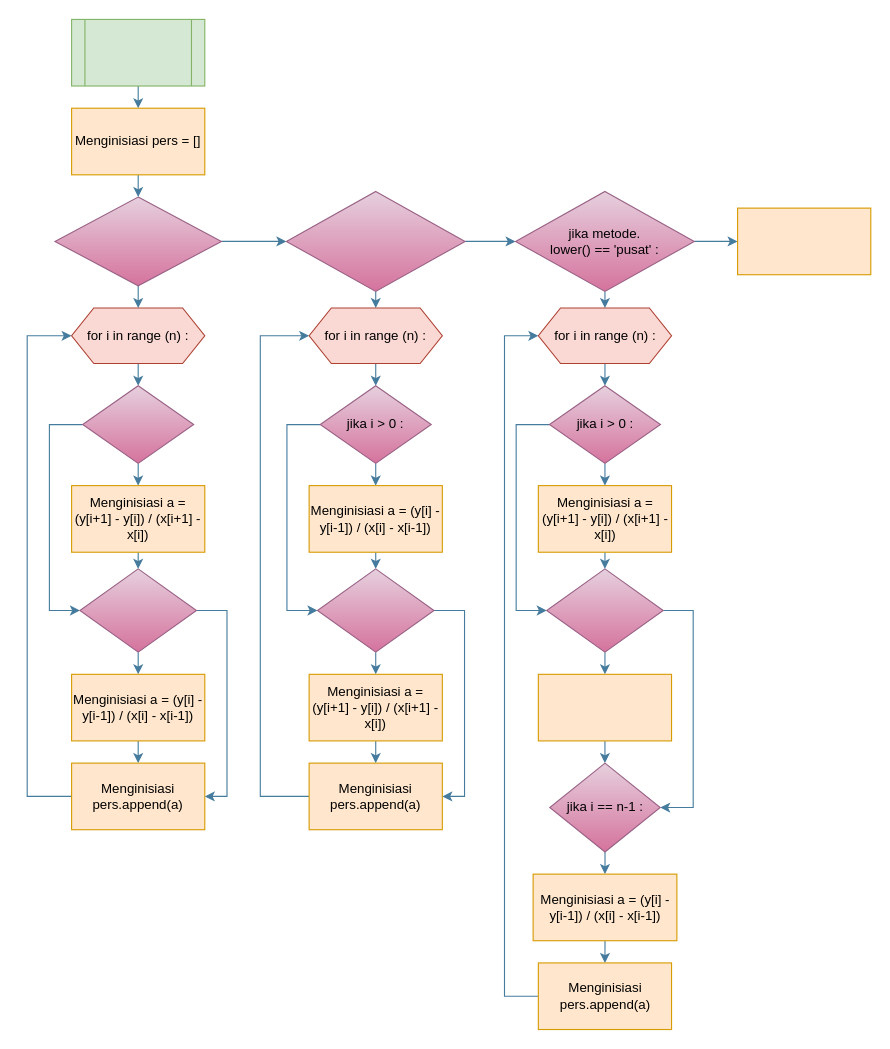
The diagram is 890 pixels wide and 1049 high, and some of its shapes have lost their labels. Here are the shapes that lost their labels. From the top down, the box of each, then its label:
(70, 18, 205, 86): def dif_numerik (x, y, metode):
(54, 196, 221, 286): jika metode. lower() == 'maju' :
(285, 190, 465, 291): jika metode. lower() == 'mundur'
(736, 207, 871, 275): Mengembalikan nilai pers ke dalam fungsi
(82, 385, 194, 463): jika i < n-1:
(79, 568, 196, 652): jika i == n-1:
(316, 568, 434, 652): jika i == 0 :
(546, 568, 663, 652): jika 0 < i < n-1 :
(537, 673, 672, 741): Menginisiasi a = (y[i+1] - y[i-1]) / 2 * (x[i+1] - x[i-1])
